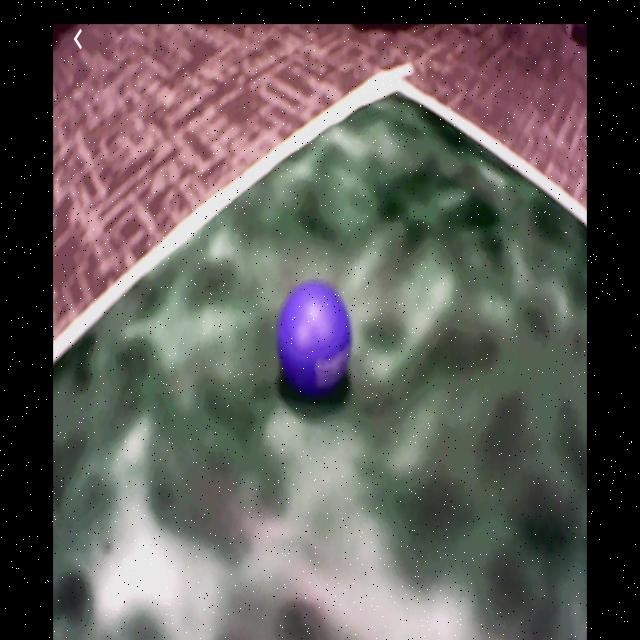ball: (276, 282, 351, 391)
